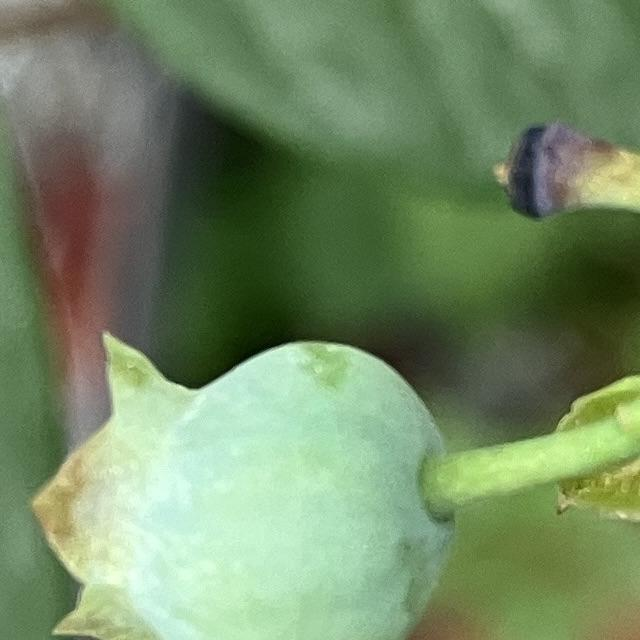Blueberries: (28, 324, 459, 640)
